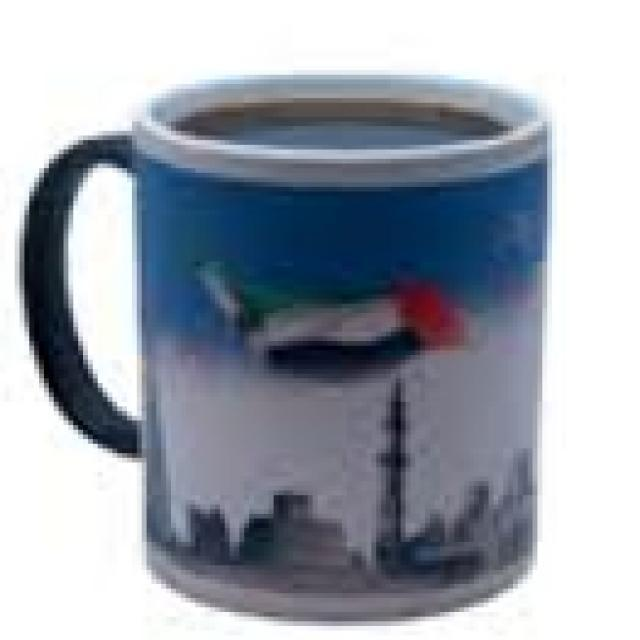taza: (16, 74, 555, 622)
